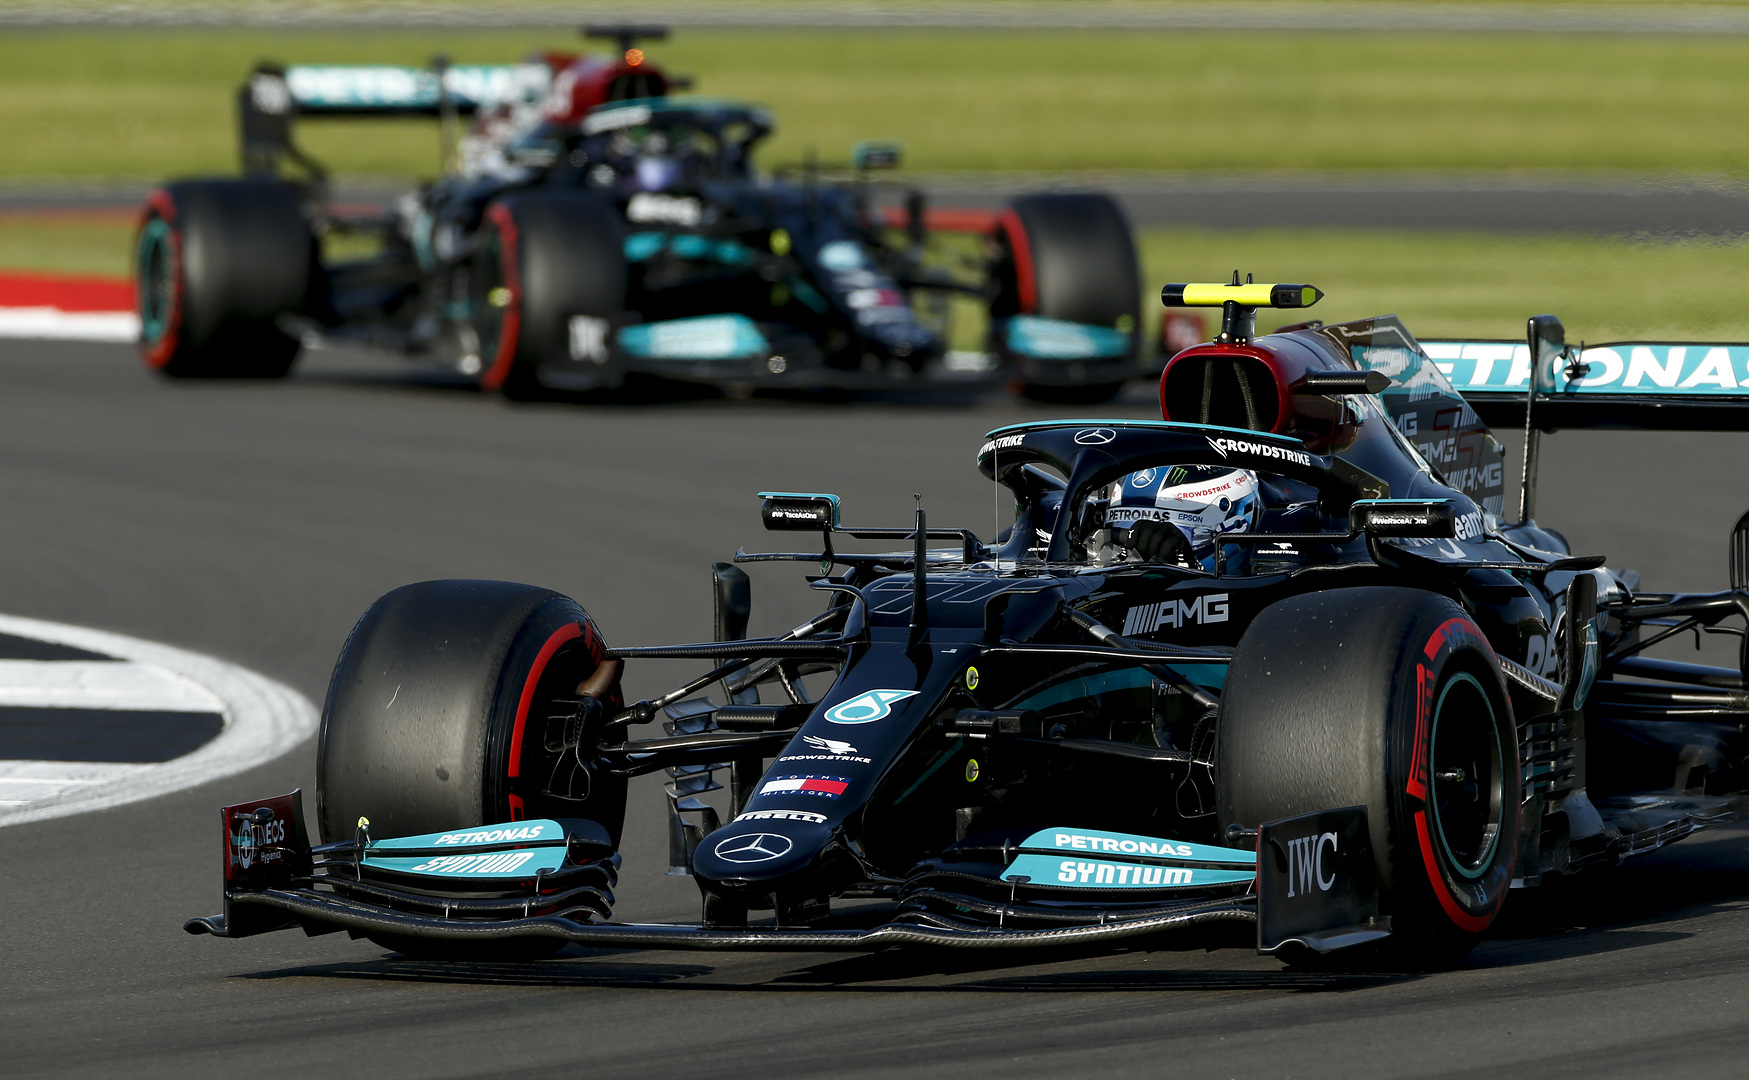Formule 1: (209, 350, 1749, 964), (127, 57, 1137, 397)
